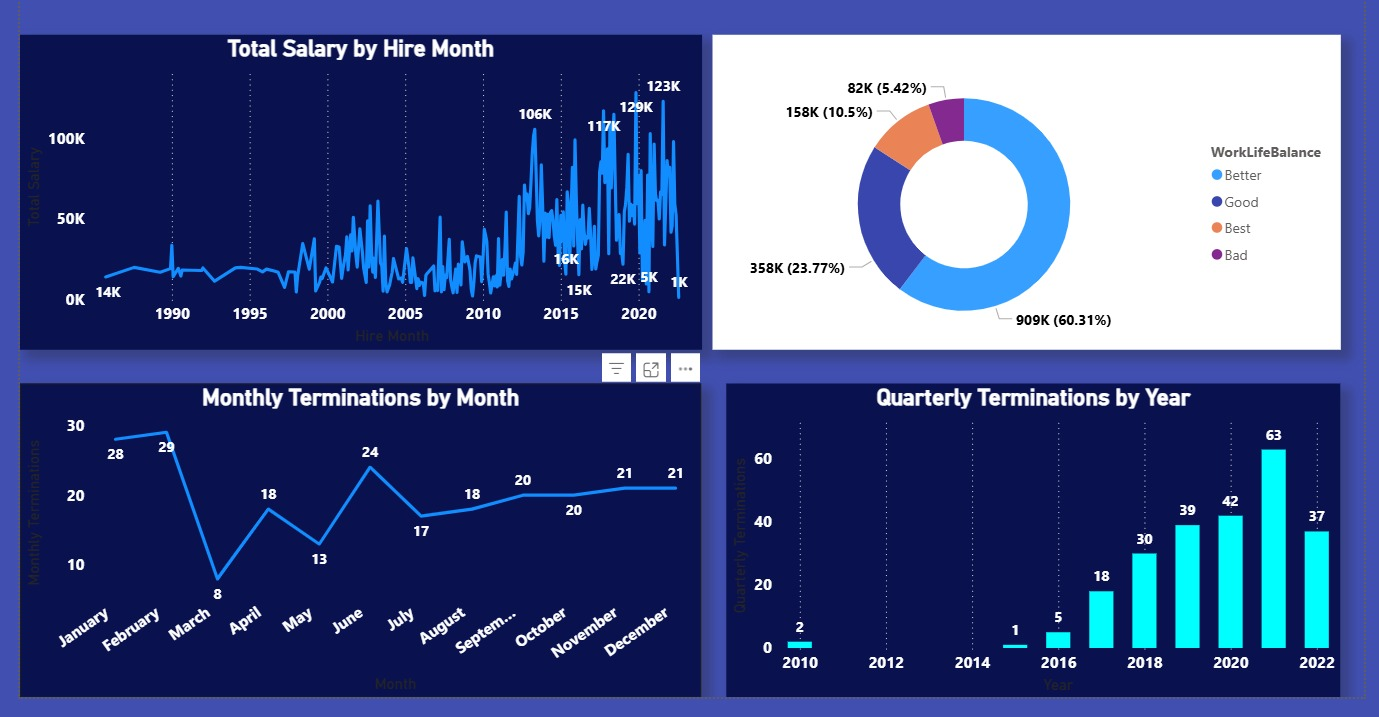

Layout of this report page (visuals, bound fields, positions):
{"tool":"powerbi","page":{"name":"Page 2","canvas":[1280,720],"ordinal":1},"visuals":[{"type":"lineChart","fields":{"Category":["Dataset.Hire Month"],"Y":["Dataset.Total Salary"]},"box":[0,88.8,649.6,299.9],"z":0},{"type":"lineChart","fields":{"Category":["Dataset.DateDeparture.Variation.Date Hierarchy.Month"],"Y":["Dataset.Monthly Terminations"]},"box":[0,421.3,649.1,299.1],"z":1000},{"type":"donutChart","fields":{"Category":["Dataset.WorkLifeBalance"],"Y":["Sum(Dataset.ID_employe)"]},"box":[659,88.8,598.4,299.9],"z":2000},{"type":"columnChart","fields":{"Category":["Dataset.DateDeparture.Variation.Date Hierarchy.Year","Dataset.DateDeparture.Variation.Date Hierarchy.Quarter"],"Y":["Dataset.Quarterly Terminations"]},"box":[672.4,420.9,585,299.9],"z":3000}]}

Visuals, with their boxes on the page's 1280x720 design canvas (x1, y1, x2, y2). These are canvas units, not pixel positions in the 1379x717 screenshot, which may show the page scaled, cropped or inside an application window:
lineChart - Dataset.Hire Month x Dataset.Total Salary: bbox=[0, 89, 650, 389]
lineChart - Dataset.DateDeparture.Variation.Date Hierarchy.Month x Dataset.Monthly Terminations: bbox=[0, 421, 649, 720]
donutChart - Dataset.WorkLifeBalance x Sum(Dataset.ID_employe): bbox=[659, 89, 1257, 389]
columnChart - Dataset.DateDeparture.Variation.Date Hierarchy.Year x Dataset.DateDeparture.Variation.Date Hierarchy.Quarter: bbox=[672, 421, 1257, 721]
